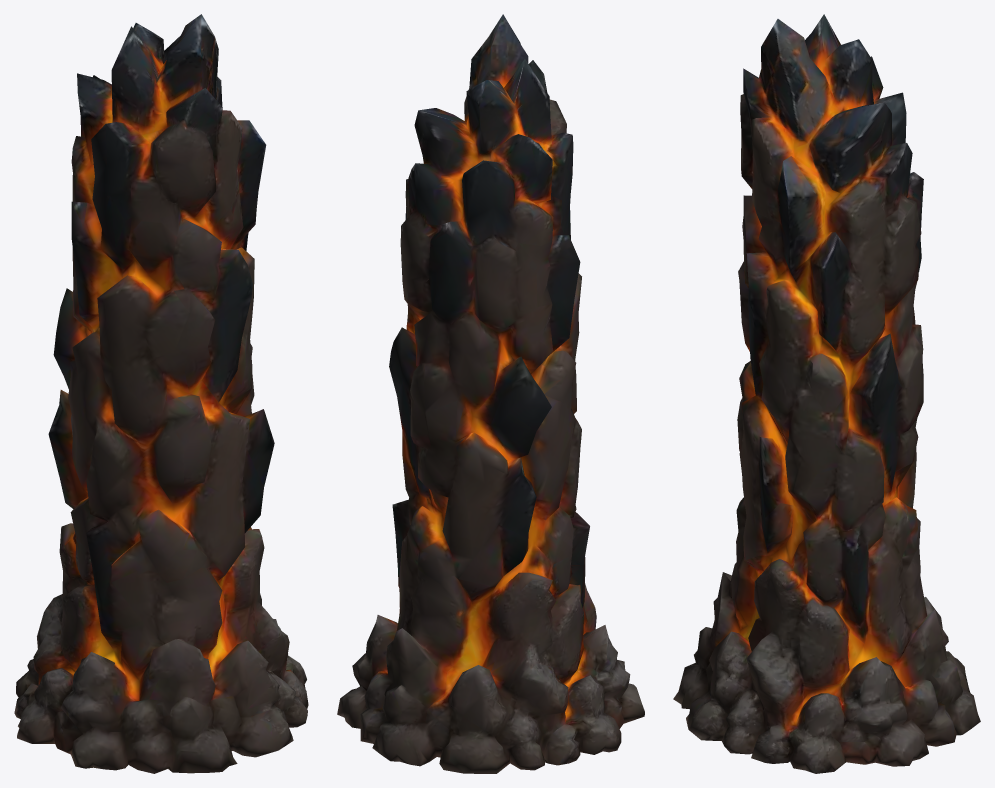
The model's file is pillar.glb.
3 renders of one model, left to right at view 1: azimuth 30°, elevation 25°; view 2: azimuth 150°, elevation 25°; view 3: azimuth 270°, elevation 25°, orthographic. The views are drawn at different scales.
Visible parts, largest first — view 1: tripo_node_ce34f864-107f-4ac8-a116-f082ca128677; view 2: tripo_node_ce34f864-107f-4ac8-a116-f082ca128677; view 3: tripo_node_ce34f864-107f-4ac8-a116-f082ca128677.
Boxes of the visible parts, <box> form: tripo_node_ce34f864-107f-4ac8-a116-f082ca128677: <box>14,14,308,773</box>; tripo_node_ce34f864-107f-4ac8-a116-f082ca128677: <box>337,14,644,773</box>; tripo_node_ce34f864-107f-4ac8-a116-f082ca128677: <box>673,14,980,773</box>.
Bounding box in the file's own units: 0.4081 × 1 × 0.4006.
1 material, 1 textured.
